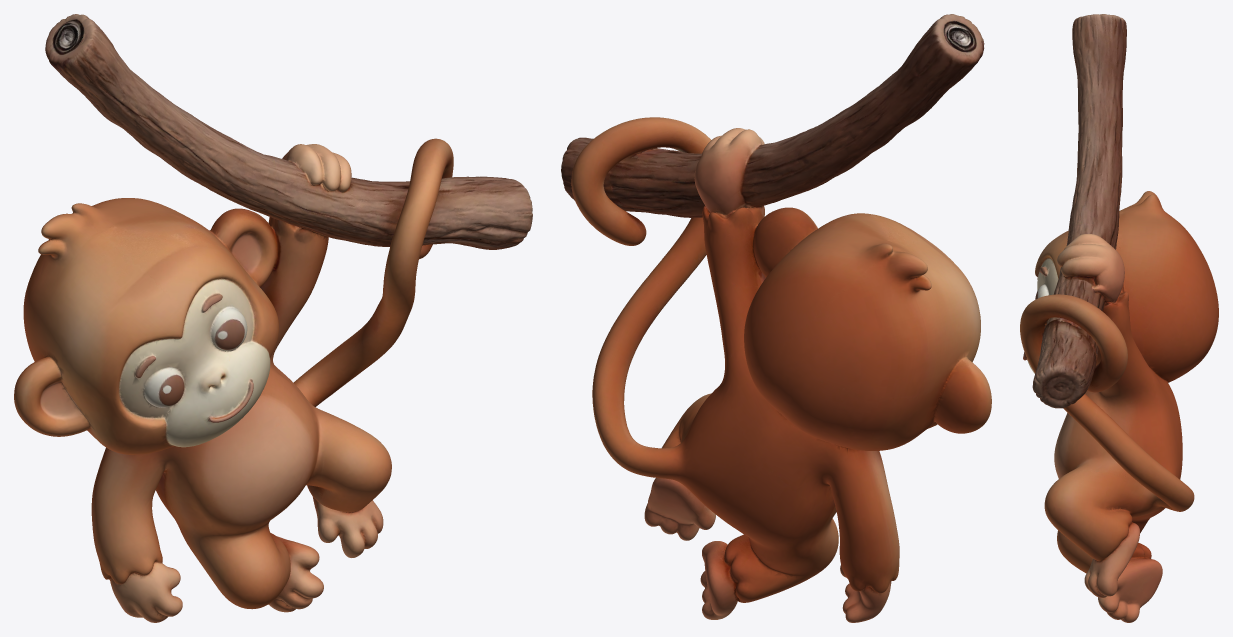
File: Scimmia.glb
3 renders of one model, left to right at view 1: azimuth 30°, elevation 25°; view 2: azimuth 150°, elevation 25°; view 3: azimuth 270°, elevation 25°, orthographic. The views are drawn at different scales.
Size of the model in its own units: 1.41 by 1.9 by 0.6548.
Materials: 1 (1 with a texture image).
